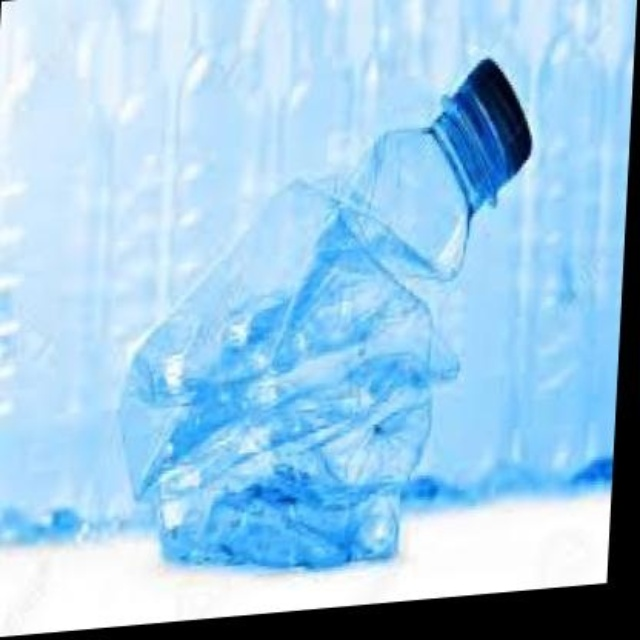trash: (122, 58, 531, 566)
